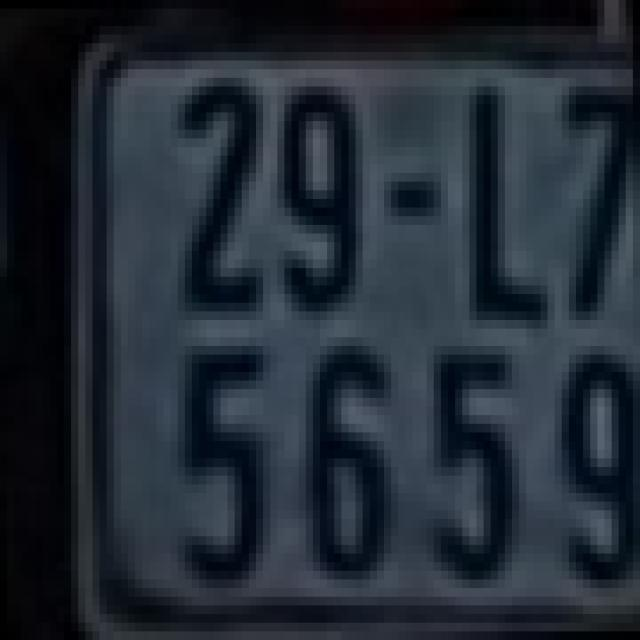2: (178, 78, 263, 311)
5: (181, 342, 267, 584), (438, 354, 516, 580)
6: (310, 346, 388, 579)
7: (562, 82, 633, 316)
9: (562, 355, 640, 588), (281, 86, 359, 312)
L: (466, 86, 551, 320)
